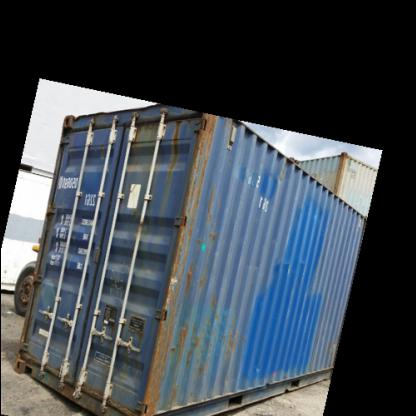Damage: (134, 232, 193, 405), (182, 105, 218, 237), (192, 280, 240, 356)
